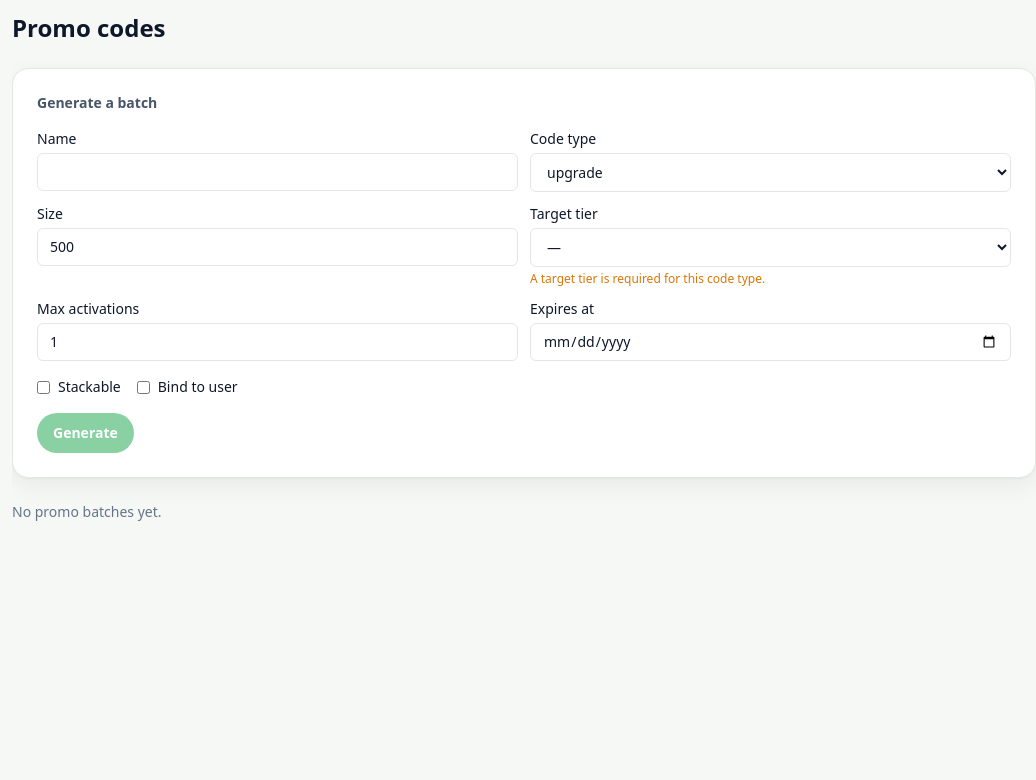
PromoView › blocks generation when size is not a multiple of 500
upgrade needs a tier, so pick one to isolate the size rule.
Type "X" into the field labelled "Name" at (278, 172), box left=37, top=153, right=518, bottom=191
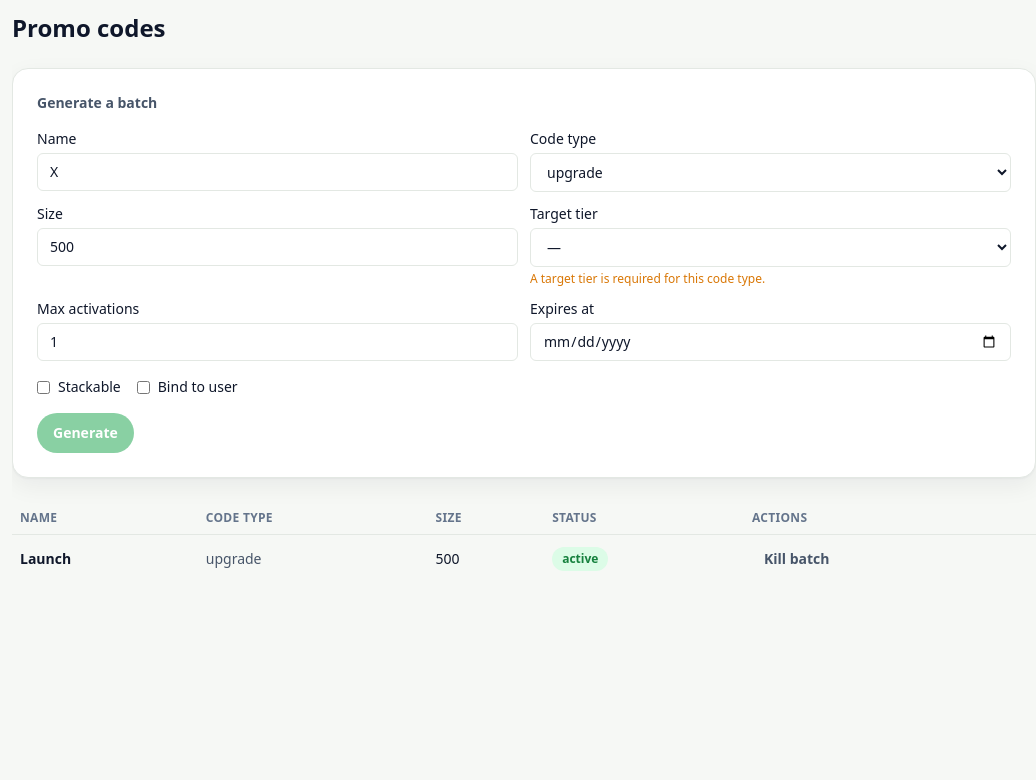
Select "pro" in the dropdown labelled "Target tier" at (770, 248), box left=530, top=228, right=1011, bottom=267
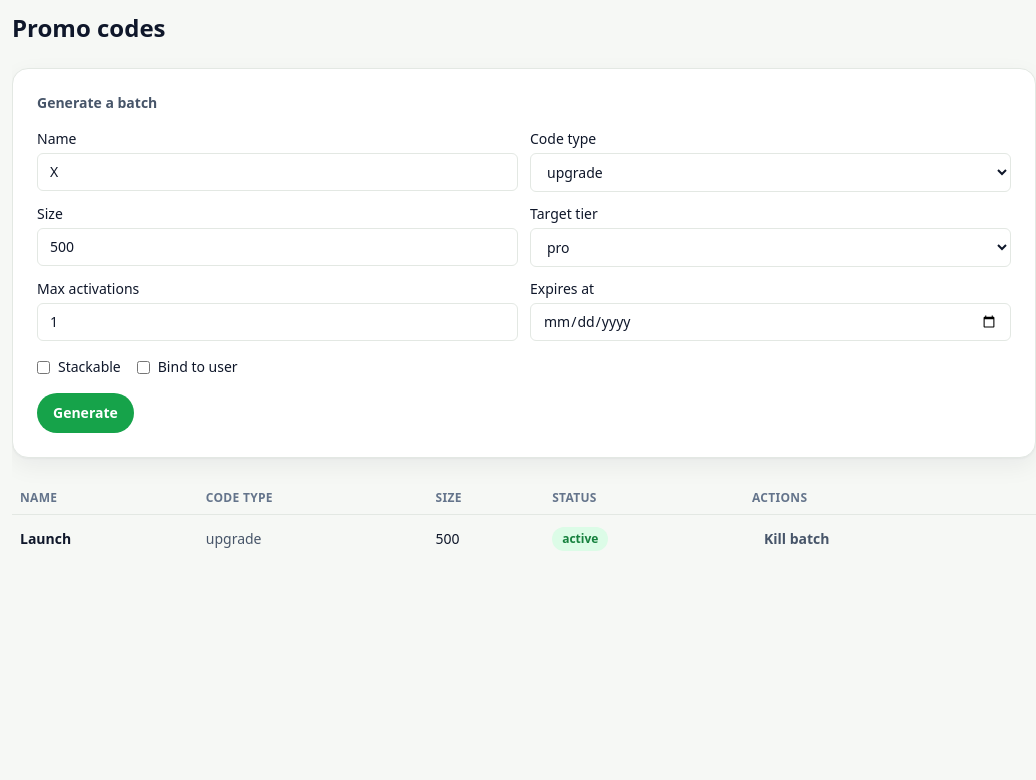
Replace the text in the number field labelled "Size" with "600" at (278, 247), box left=37, top=228, right=518, bottom=266
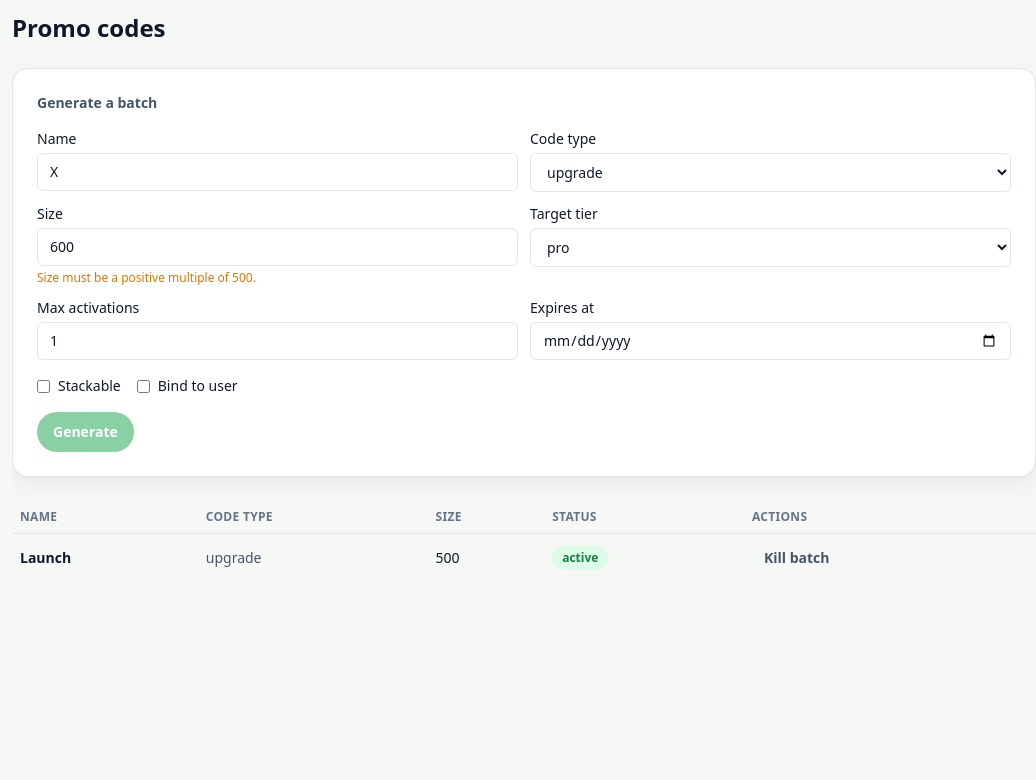
Now the button "Generate" is disabled, box left=37, top=412, right=134, bottom=452
Replace the text in the number field labelled "Size" with "1000" at (278, 247), box left=37, top=228, right=518, bottom=266
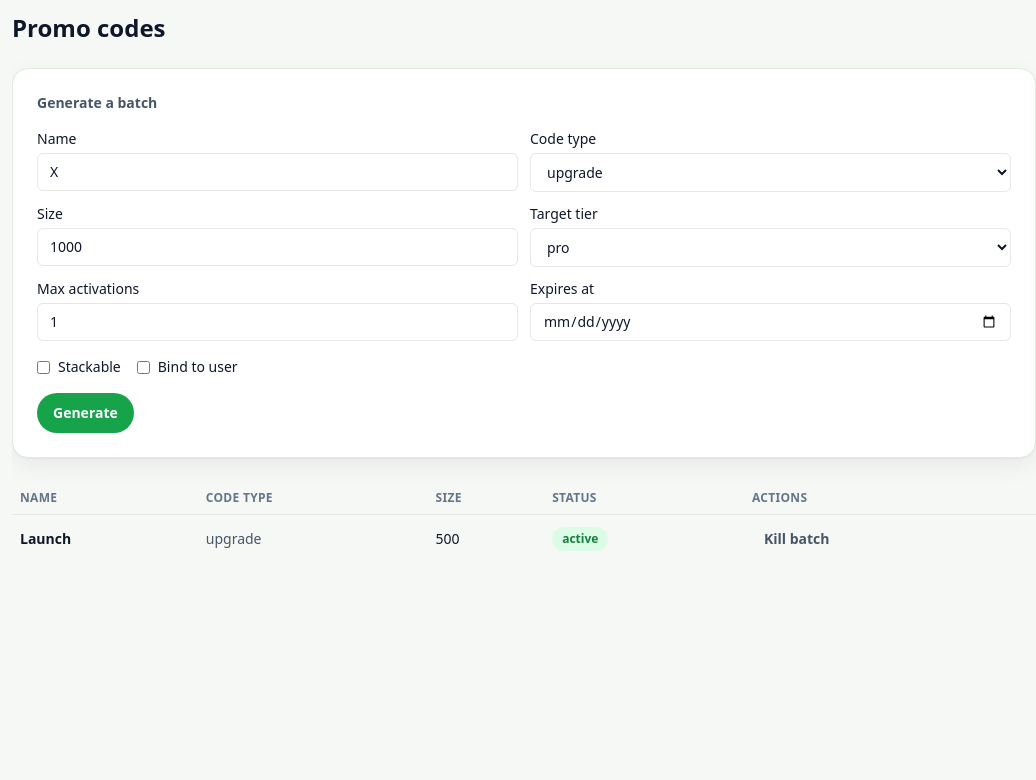
Now the button "Generate" is enabled, box left=37, top=393, right=134, bottom=433
